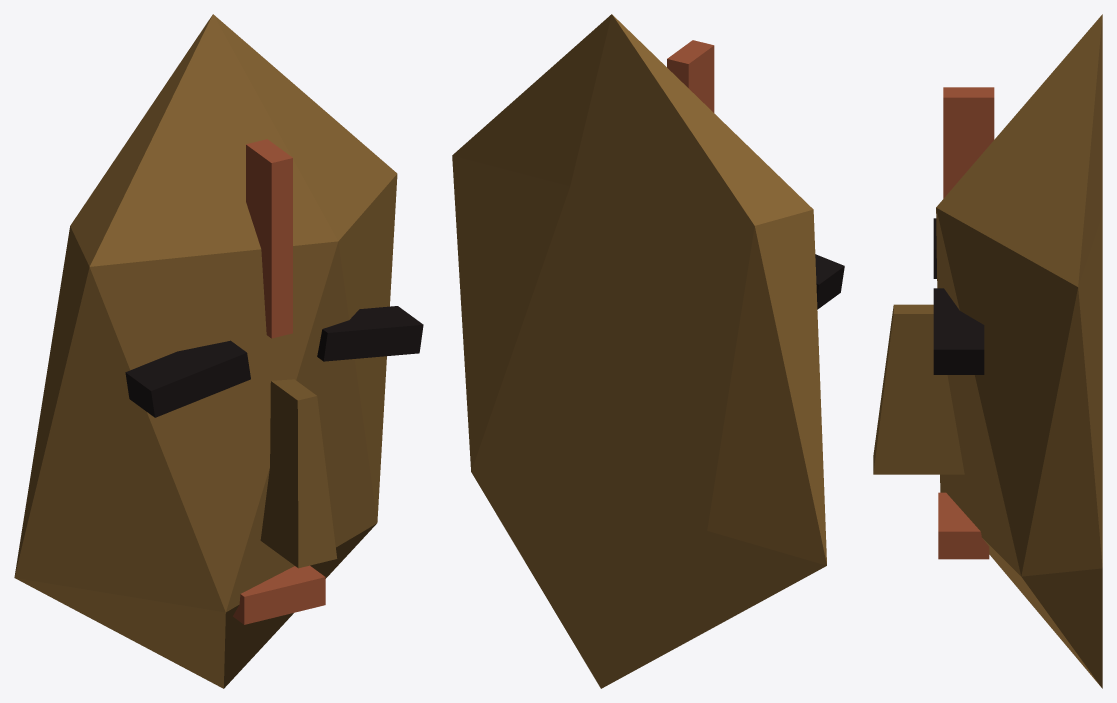
File: wall-mask-20.glb
3 views of the same model, side by side, from view 1: azimuth 30°, elevation 25°; view 2: azimuth 150°, elevation 25°; view 3: azimuth 270°, elevation 25° (orthographic).
Parts seen in each view (by area): view 1: wall_mask_20; view 2: wall_mask_20; view 3: wall_mask_20.
Part boxes in pixels (x1,y1,x2,y2): wall_mask_20: [14, 14, 423, 688]; wall_mask_20: [452, 14, 844, 688]; wall_mask_20: [873, 14, 1102, 688].
Bounding box in the file's own units: 0.17 × 0.2904 × 0.0901.
